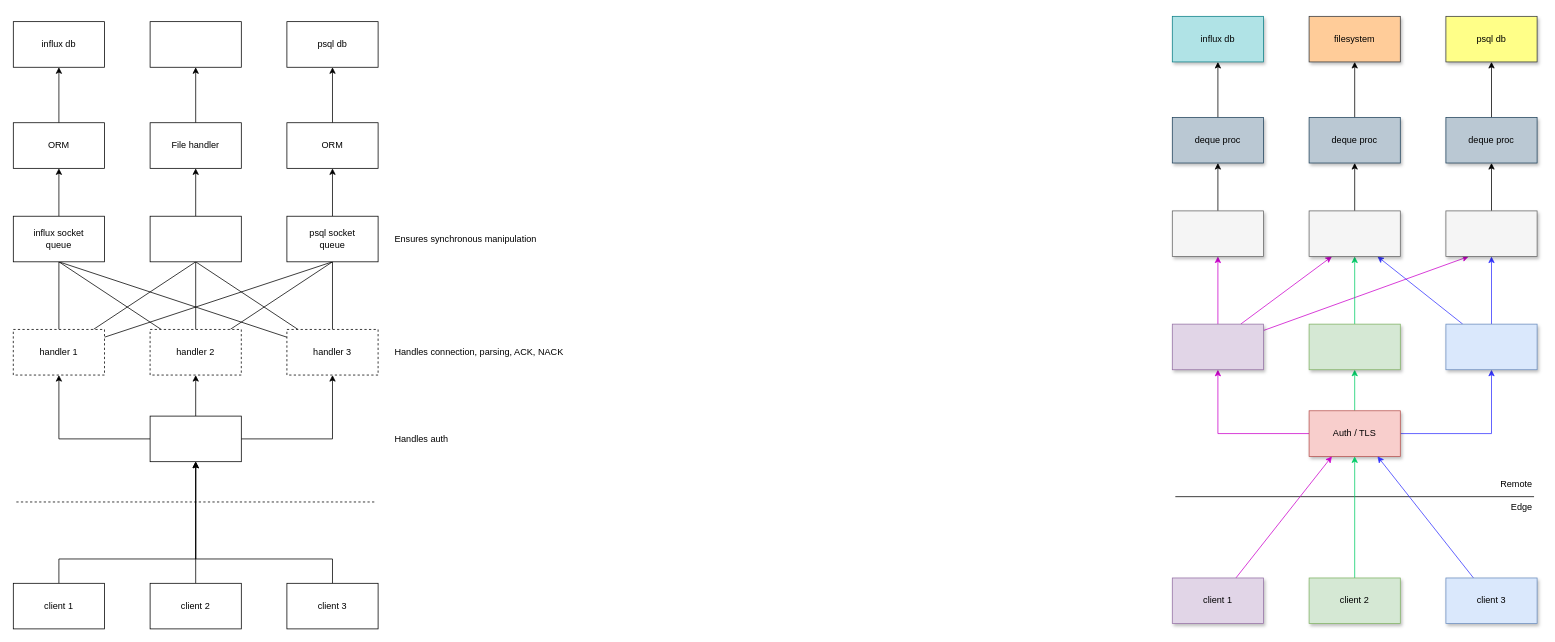
The diagram is 1555 pixels wide and 642 high, and some of its shapes have lost their labels. Each missing label, with the centre of its shape:
"csv socket queue" belongs at point 195,238.
"dispatch" belongs at point 195,438.
"file" belongs at point 195,44.
"handler (client 1)" belongs at point 1218,347.
"handler (client 2)" belongs at point 1355,347.
"handler (client 3)" belongs at point 1492,347.
"queue (csv)" belongs at point 1355,234.
"queue (influx)" belongs at point 1218,234.
"queue (psql)" belongs at point 1492,234.
